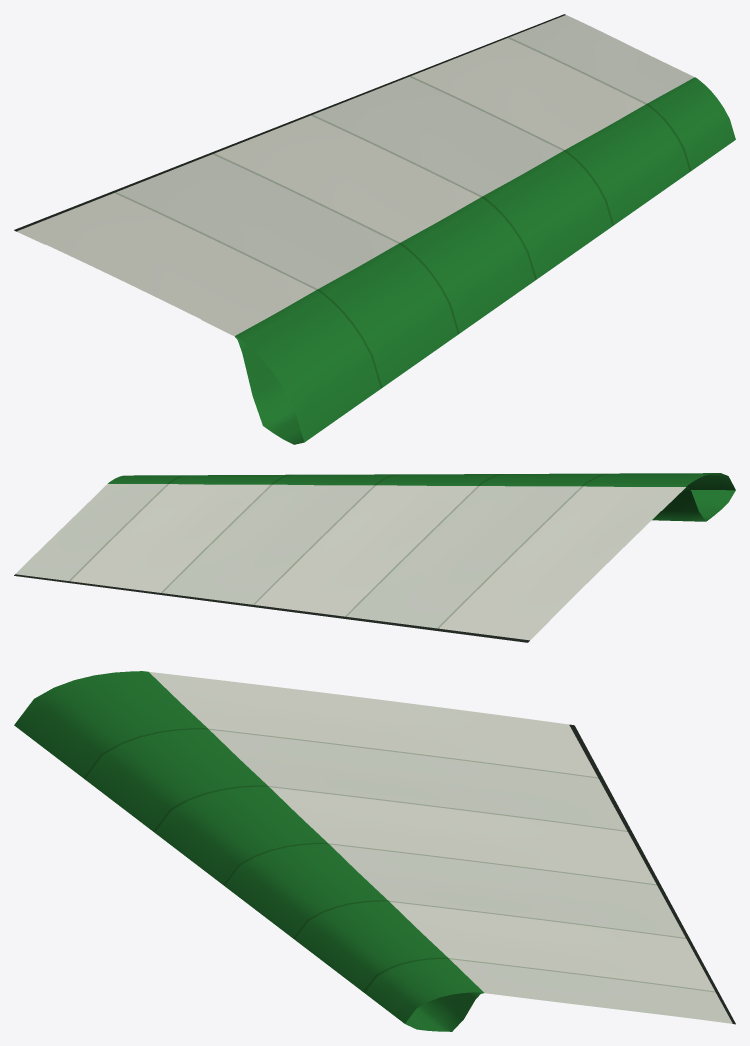
Rendered from wing_root_left_sail.dae.
3 views of the same model, one above another, from view 1: azimuth 30°, elevation 25°; view 2: azimuth 150°, elevation 25°; view 3: azimuth 270°, elevation 25° (orthographic). The views are drawn at different scales.
Parts seen in each view (by area): view 1: wing; view 2: wing; view 3: wing.
Part boxes in pixels (x1,y1,x2,y2): wing: (14,14,735,444); wing: (14,473,735,642); wing: (14,671,735,1031).
Size of the model in its own units: 3.07 by 3.14 by 0.3235.
